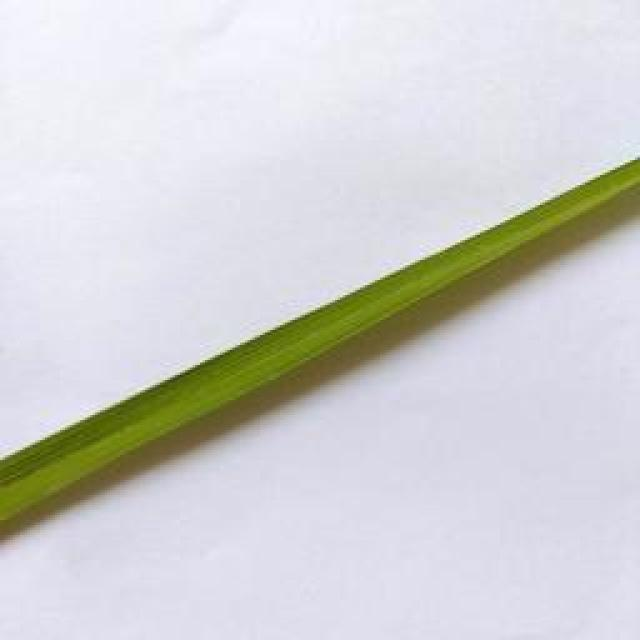Healthy-Plant: (0, 154, 640, 526)
